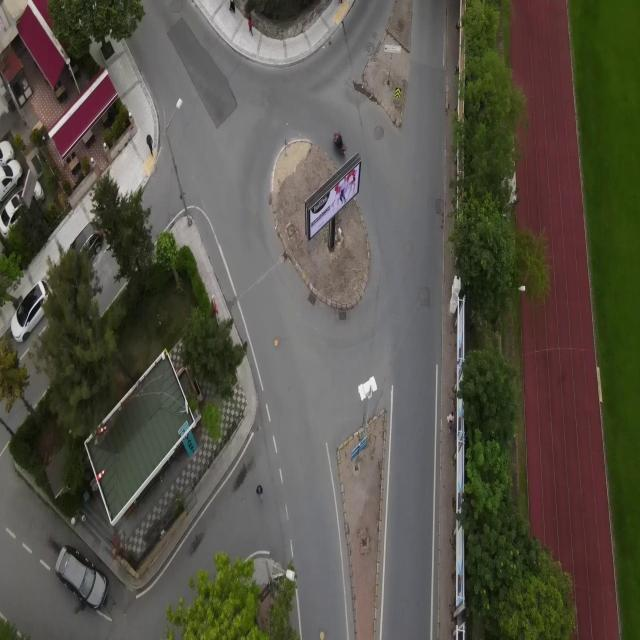p3rson: (256, 480, 266, 506), (146, 133, 154, 158), (447, 410, 454, 434), (246, 16, 254, 36), (228, 0, 235, 14)
